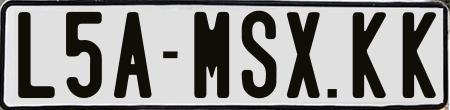5: (65, 12, 104, 104)
A: (114, 12, 153, 103)
K: (353, 12, 389, 103), (402, 11, 433, 101)
L: (17, 10, 54, 98)
M: (192, 12, 231, 104)
S: (240, 11, 276, 100)
X: (285, 10, 318, 96)
